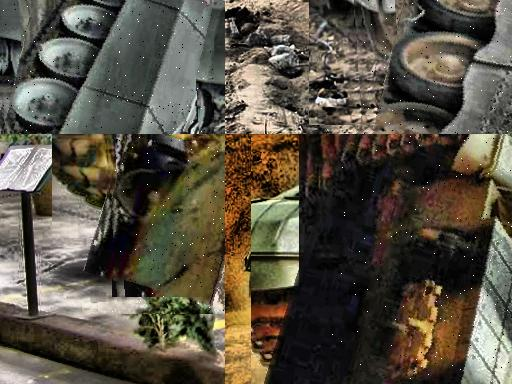tanks: (334, 135, 512, 384), (5, 1, 214, 135), (114, 135, 226, 311), (370, 1, 512, 135), (169, 236, 178, 239)
